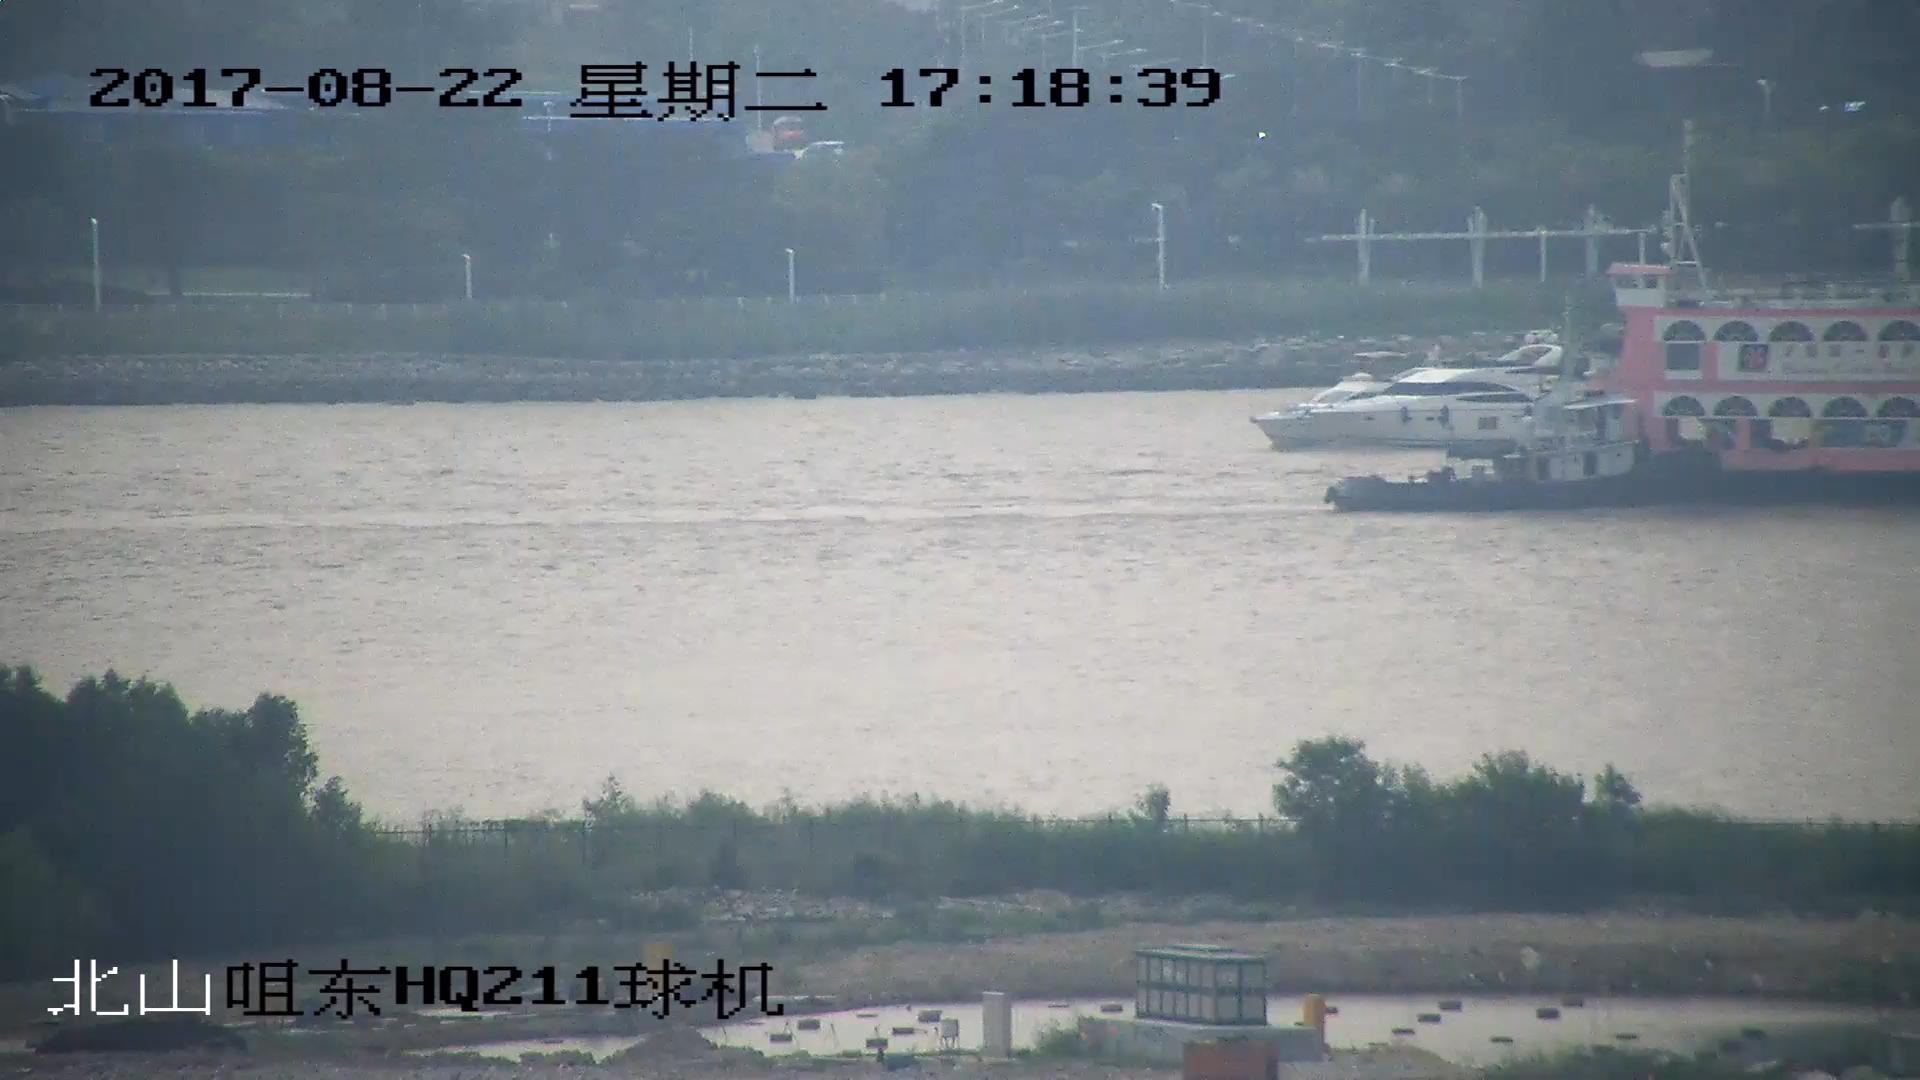fishing boat: (1327, 331, 1725, 513)
passenger ship: (1589, 181, 1920, 510), (1247, 329, 1621, 453)
